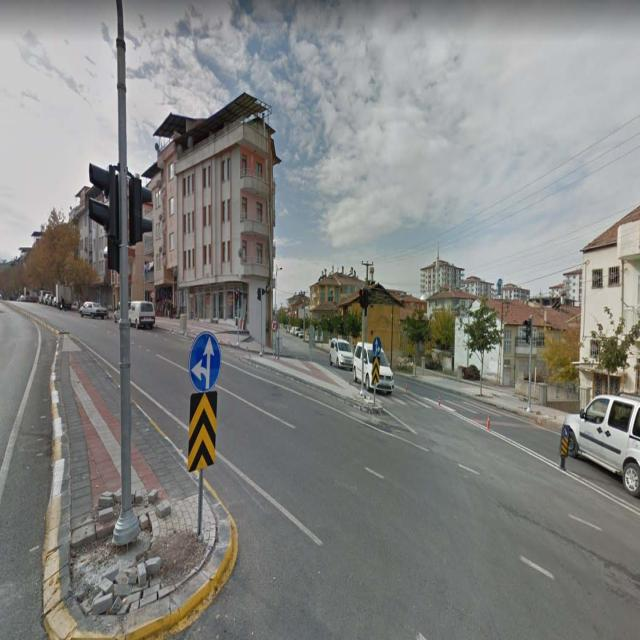ilerisag: (373, 338, 381, 356)
ilerisol: (191, 332, 219, 392)
sagadonulmez: (271, 319, 278, 331)
